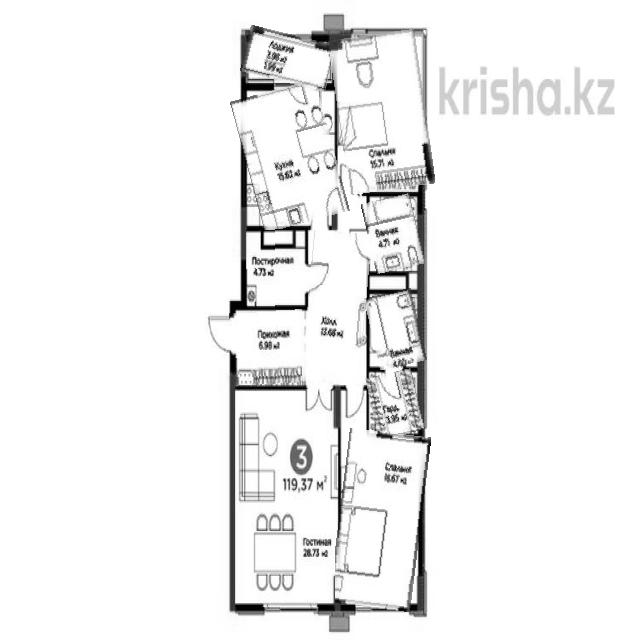balcony: (242, 30, 334, 88)
bathroom: (365, 195, 422, 272), (368, 291, 423, 368)
hallway: (304, 231, 369, 385), (230, 310, 305, 385)
kitchen: (238, 84, 342, 229)
living_room: (236, 389, 336, 607), (334, 430, 426, 610), (333, 31, 430, 192), (247, 229, 303, 308)
other: (368, 370, 421, 437)
